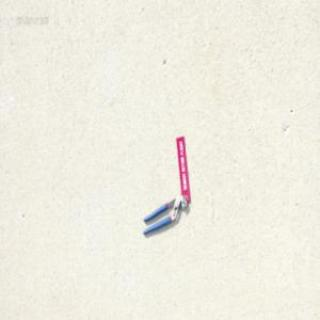LuggageTagtrack_idkeyframe: (175, 134, 190, 200)
Pliertrack_idkeyframe: (142, 194, 186, 235)
